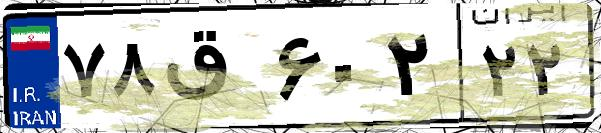0: (330, 28, 385, 110)
2: (385, 28, 445, 110), (475, 38, 525, 113), (525, 38, 570, 115)
6: (270, 28, 330, 110)
7: (57, 26, 110, 100)
8: (110, 28, 158, 98)
ق: (158, 20, 270, 120)
